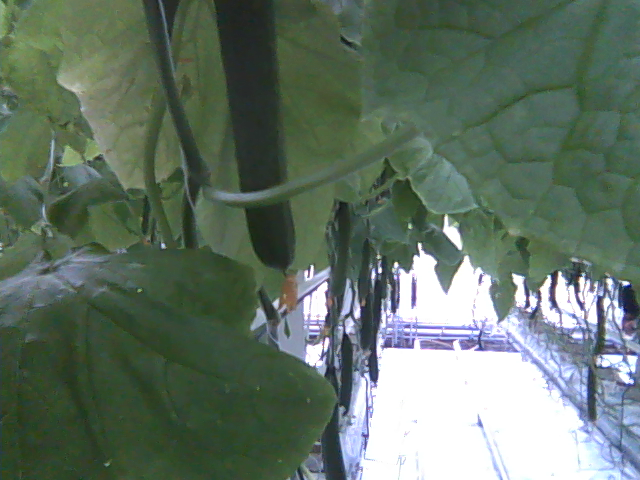concombre: (214, 1, 305, 317)
